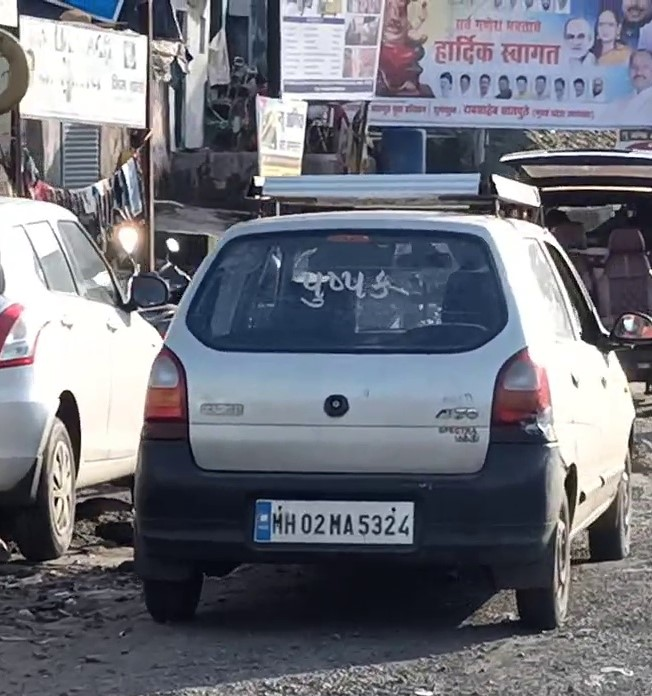MH02MA5324: (253, 497, 414, 542)
